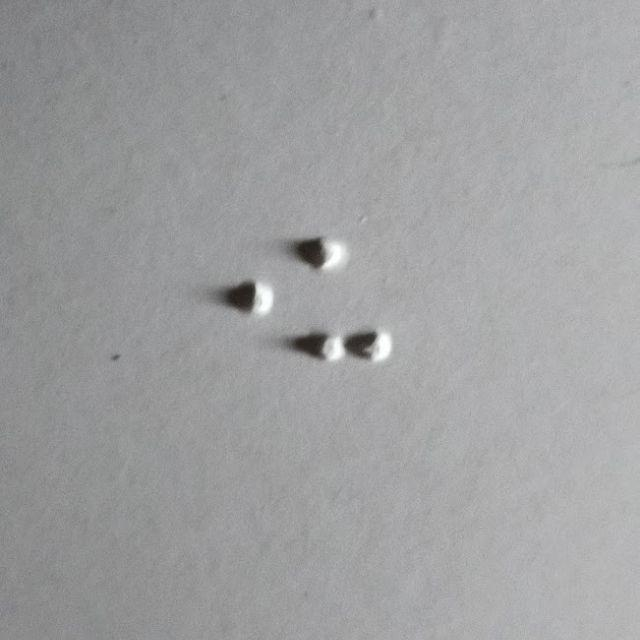dot_5: (181, 237, 274, 363)
ugali: (300, 236, 393, 362)
